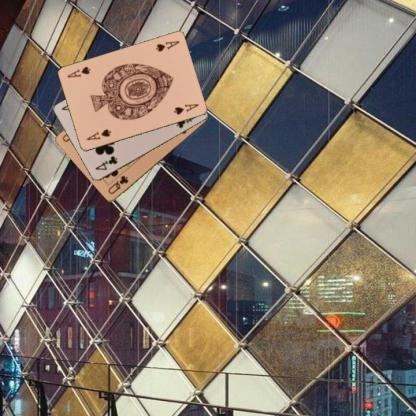4c: (92, 154, 118, 172)
As: (84, 127, 112, 142), (153, 39, 180, 53)
Qc: (105, 173, 130, 196)
